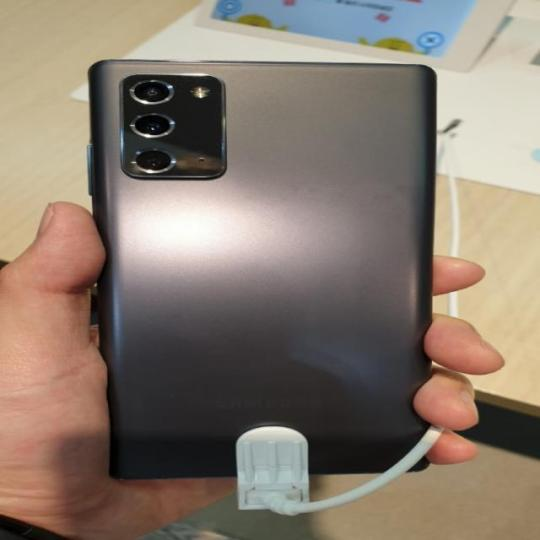phone: (79, 54, 444, 477)
